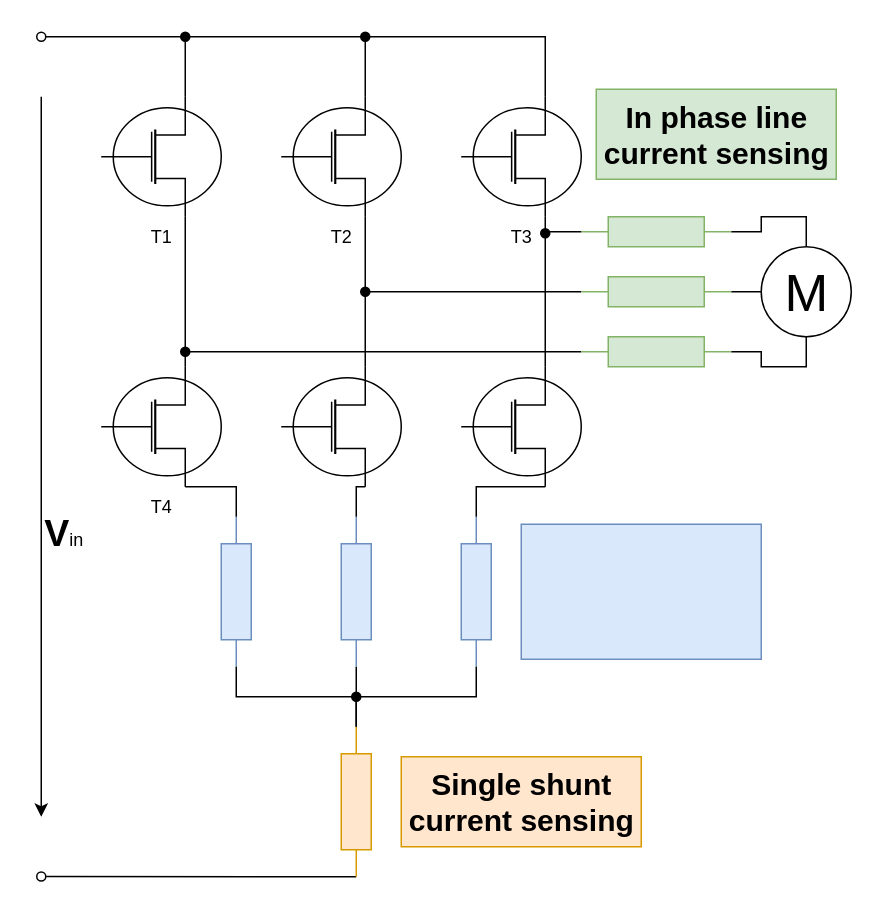
This 878x915 diagram has some shape labels left out. Here are the shapes that lost their labels. From the top down, the centre of each, then its label:
[340,426]: T5
[520,426]: T6
[640,591]: Low side 2 or 3 shunt current sensing
